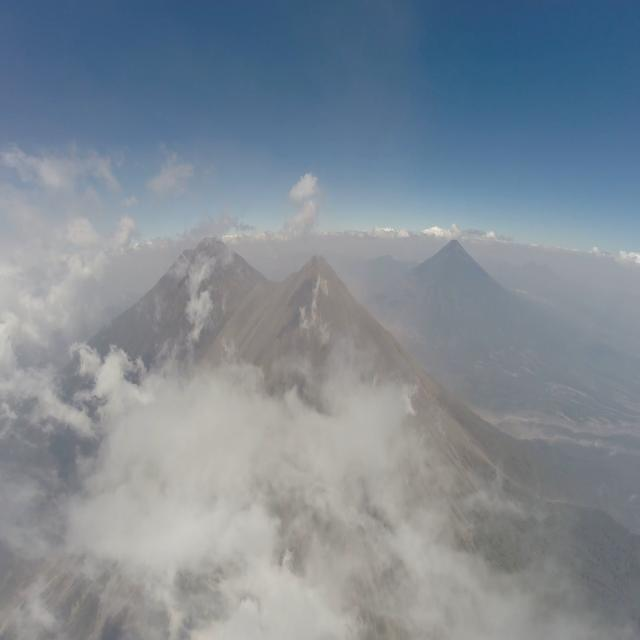Summit: (282, 250, 362, 306)
